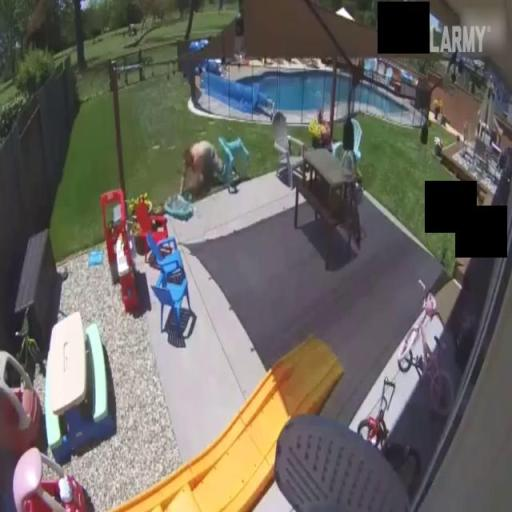Fall: (179, 138, 239, 204)
